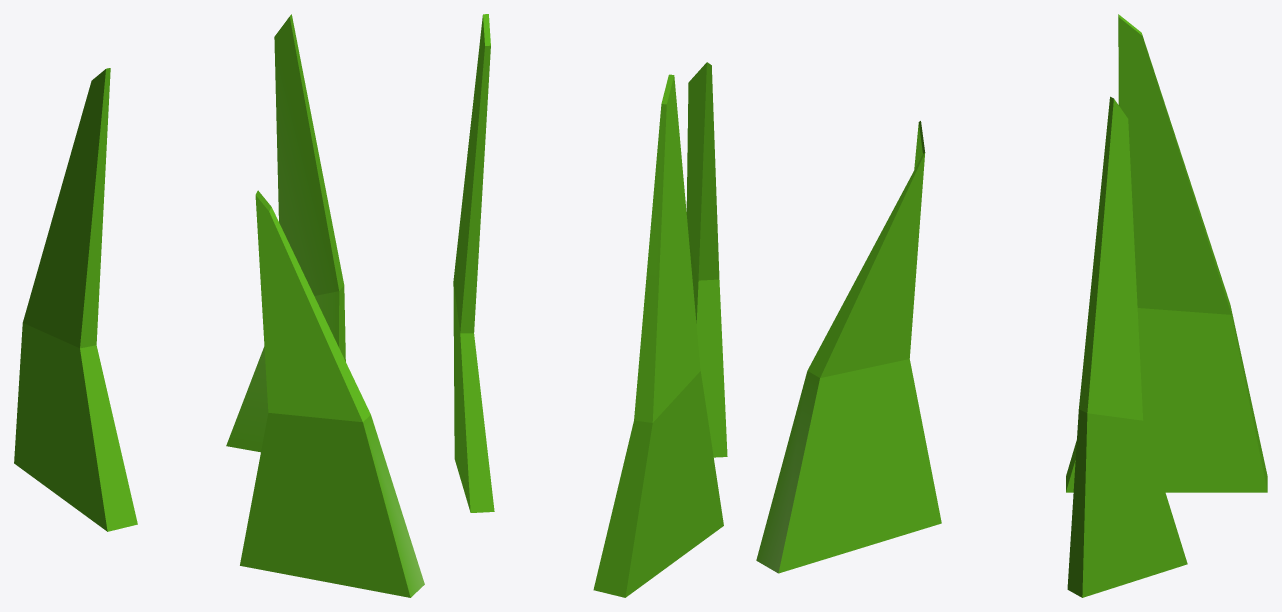
Rendered from grass.fbx.
3 renders of one model, left to right at view 1: azimuth 30°, elevation 25°; view 2: azimuth 150°, elevation 25°; view 3: azimuth 270°, elevation 25°, orthographic. The views are drawn at different scales.
Visible parts, largest first — view 1: Cube.001; view 2: Cube.001; view 3: Cube.001.
Boxes of the visible parts, x1,y1,x2,y2 form: Cube.001: [14, 14, 424, 597]; Cube.001: [453, 14, 727, 597]; Cube.001: [756, 14, 1267, 597].
Bounding box in the file's own units: 1.04 × 1.76 × 1.67.
